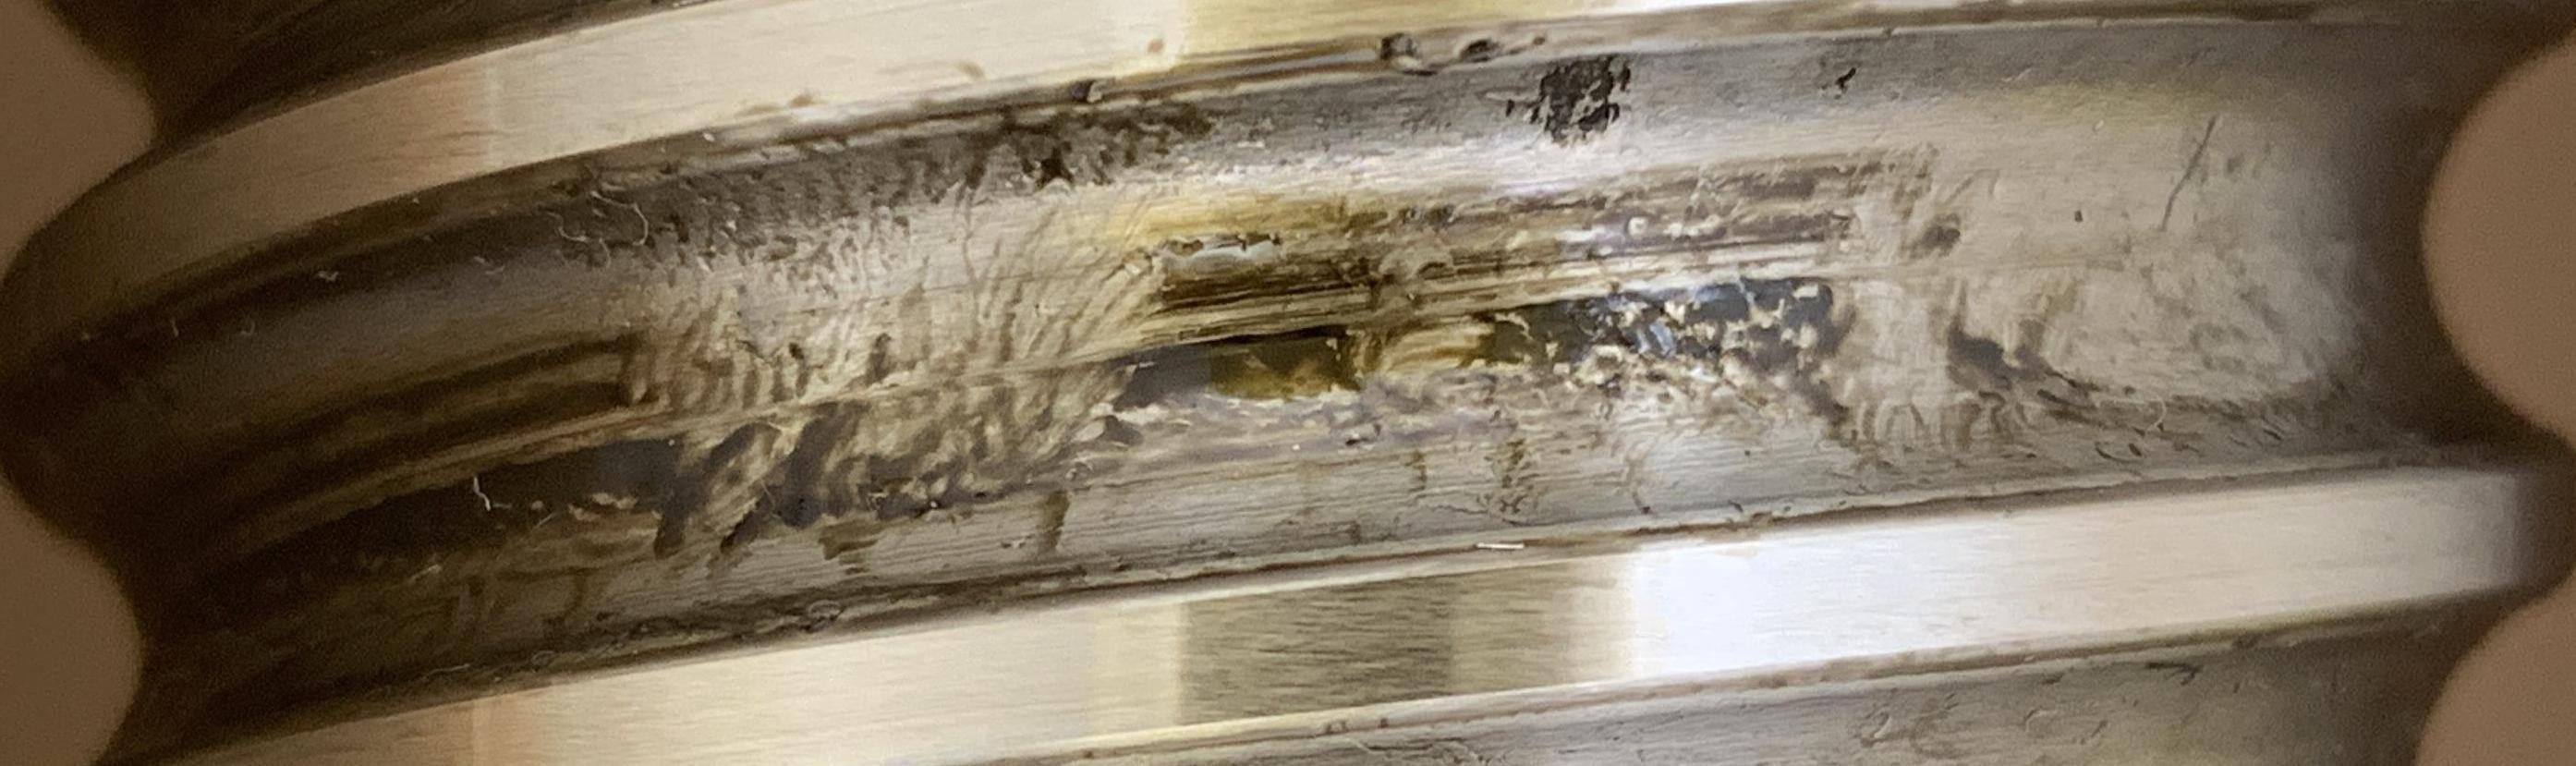pitting: (1505, 54, 1631, 143), (1835, 69, 1855, 94)
